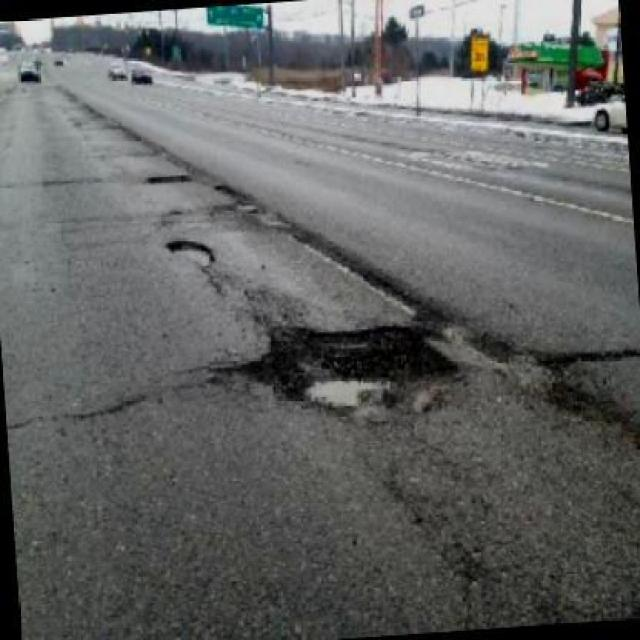pothole: (209, 328, 460, 414)
